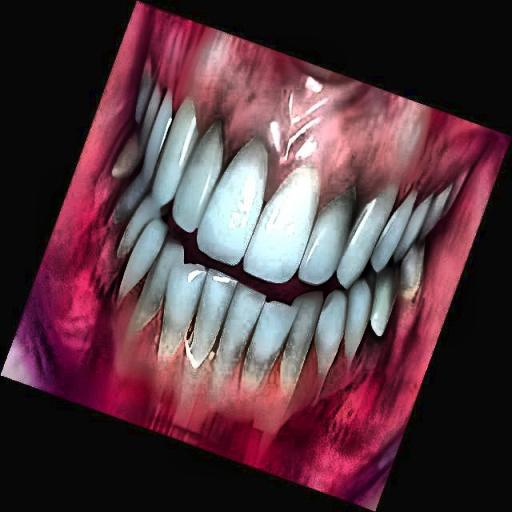Healthy: (119, 75, 451, 366)
